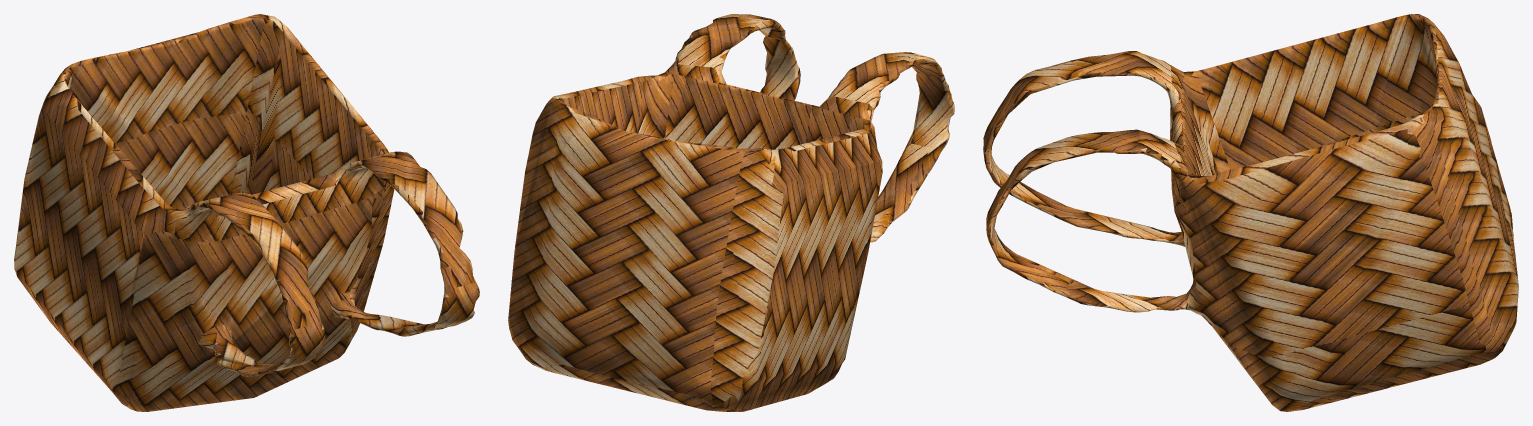
The model's file is Cest.fbx.
3 renders of one model, left to right at view 1: azimuth 30°, elevation 25°; view 2: azimuth 150°, elevation 25°; view 3: azimuth 270°, elevation 25°, orthographic. The views are drawn at different scales.
Visible parts, largest first — view 1: Cube; view 2: Cube; view 3: Cube.
Part boxes in pixels (box(x1,y1,x2,y2)): Cube: box(14, 14, 479, 411); Cube: box(508, 14, 954, 411); Cube: box(983, 14, 1518, 411).
Size of the model in its own units: 45.34 by 50.97 by 78.59.
